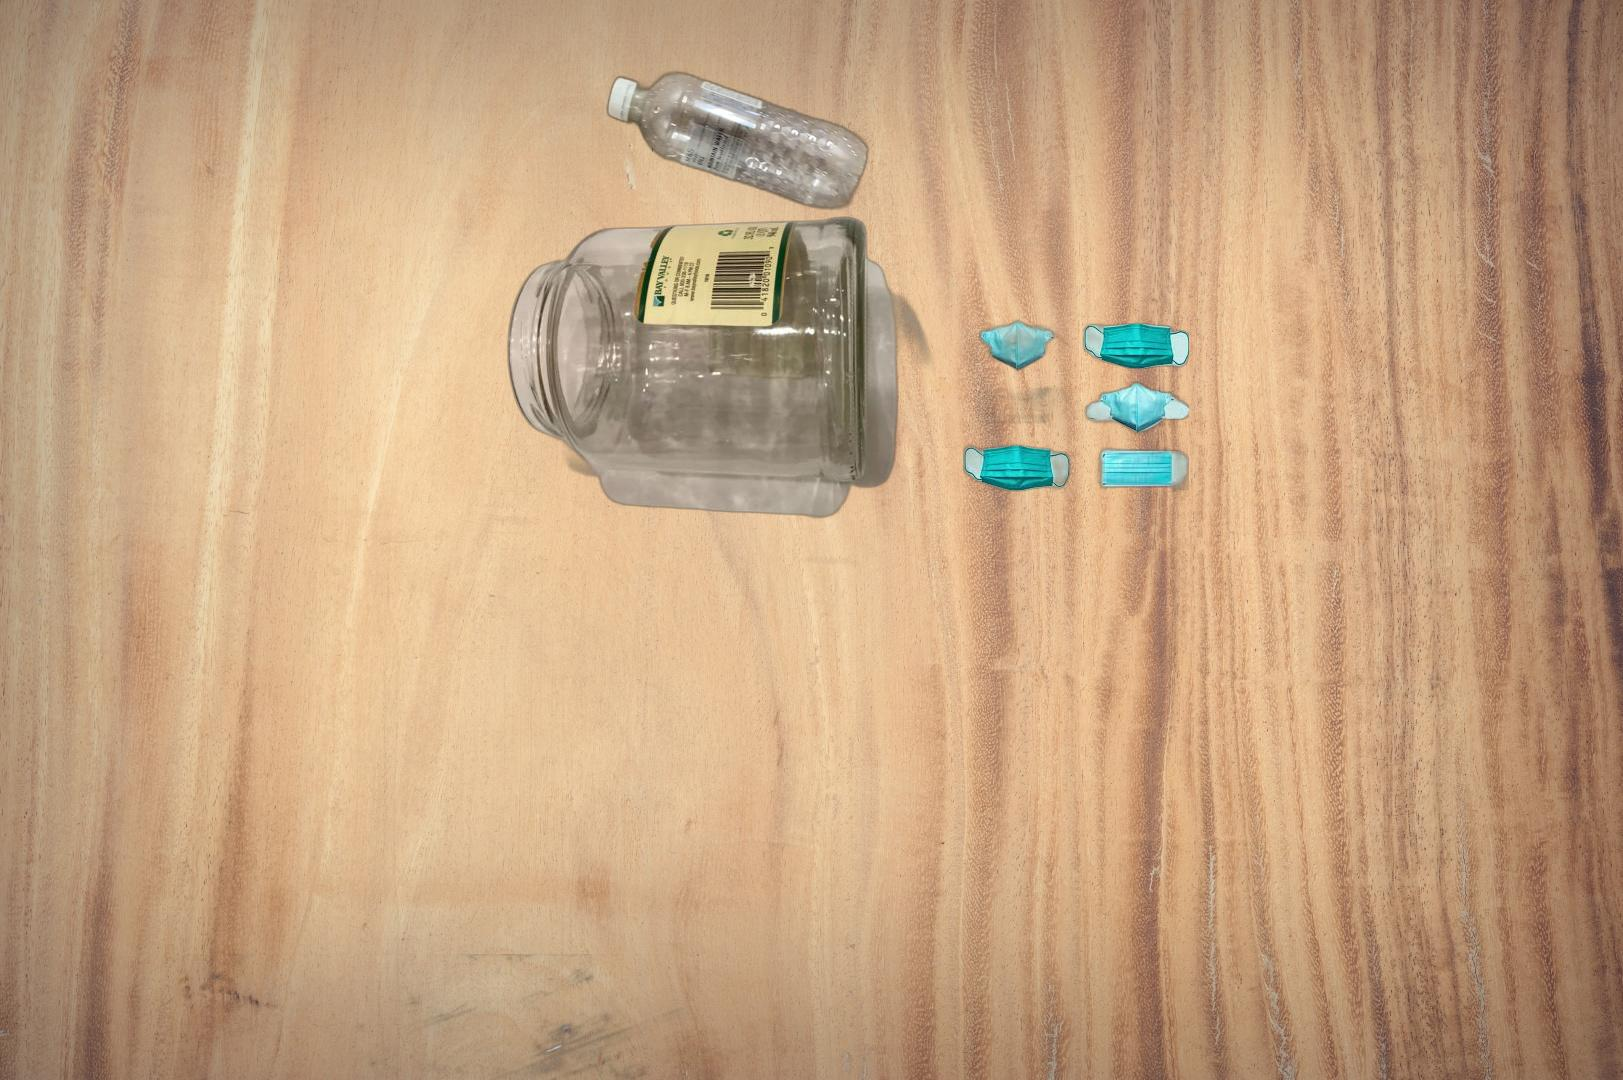battery: (661, 223, 839, 406)
glass: (504, 215, 937, 520)
paper: (187, 953, 699, 1080)
plastic-bottles: (602, 66, 874, 215)
shoes: (547, 1076, 862, 1080)
trash: (963, 299, 1189, 522)
